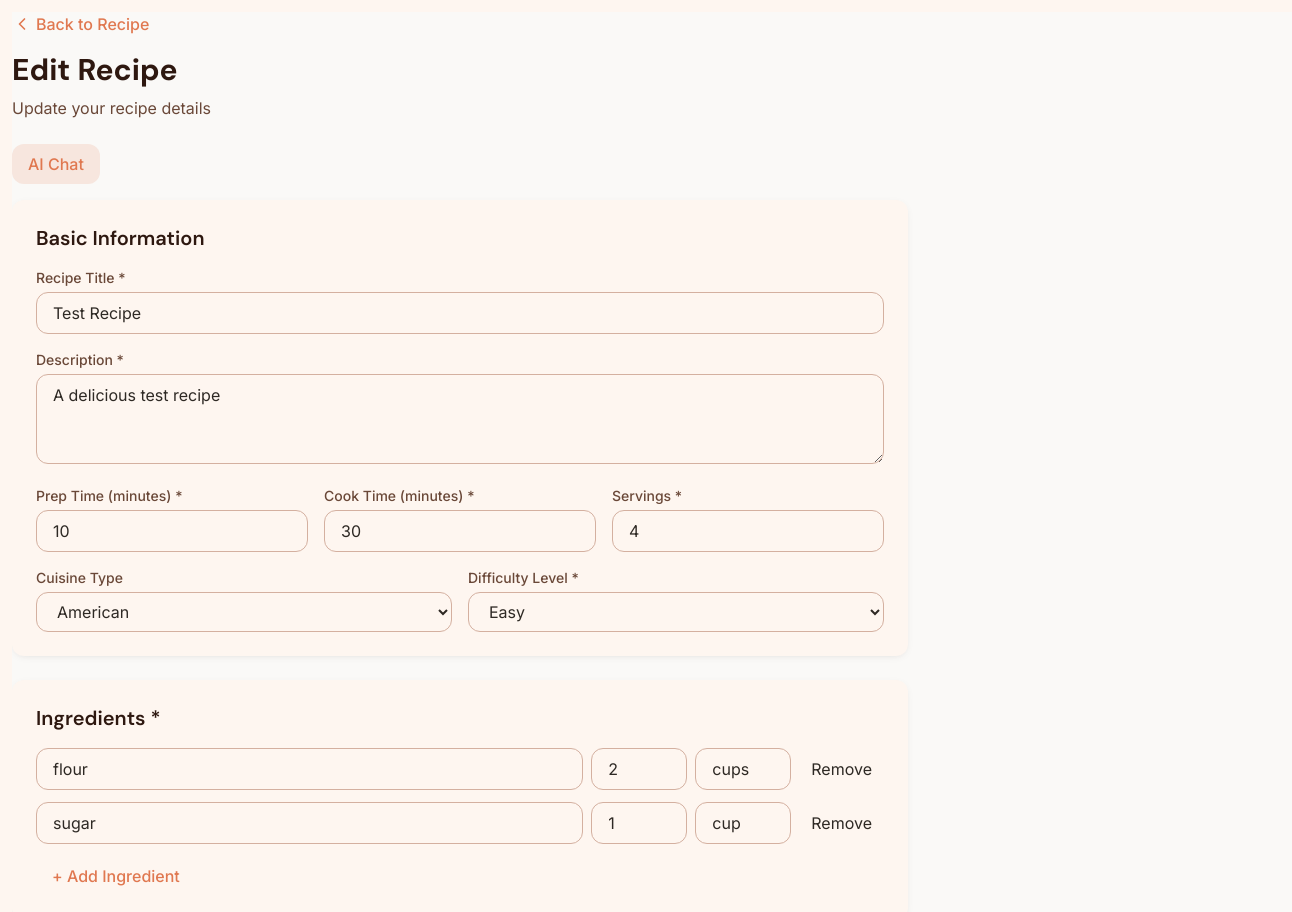
Test: EditRecipePage - Chat Integration › after Apply, next chat message includes the updated recipe state
The width and height of the screenshot is (1292, 912).
Check: the heading "Edit Recipe" is shown, box [12,50,178,89]
// Open chat panel
Click the button "AI Chat". click: {"x": 56, "y": 164}
box: [12,144,100,184]
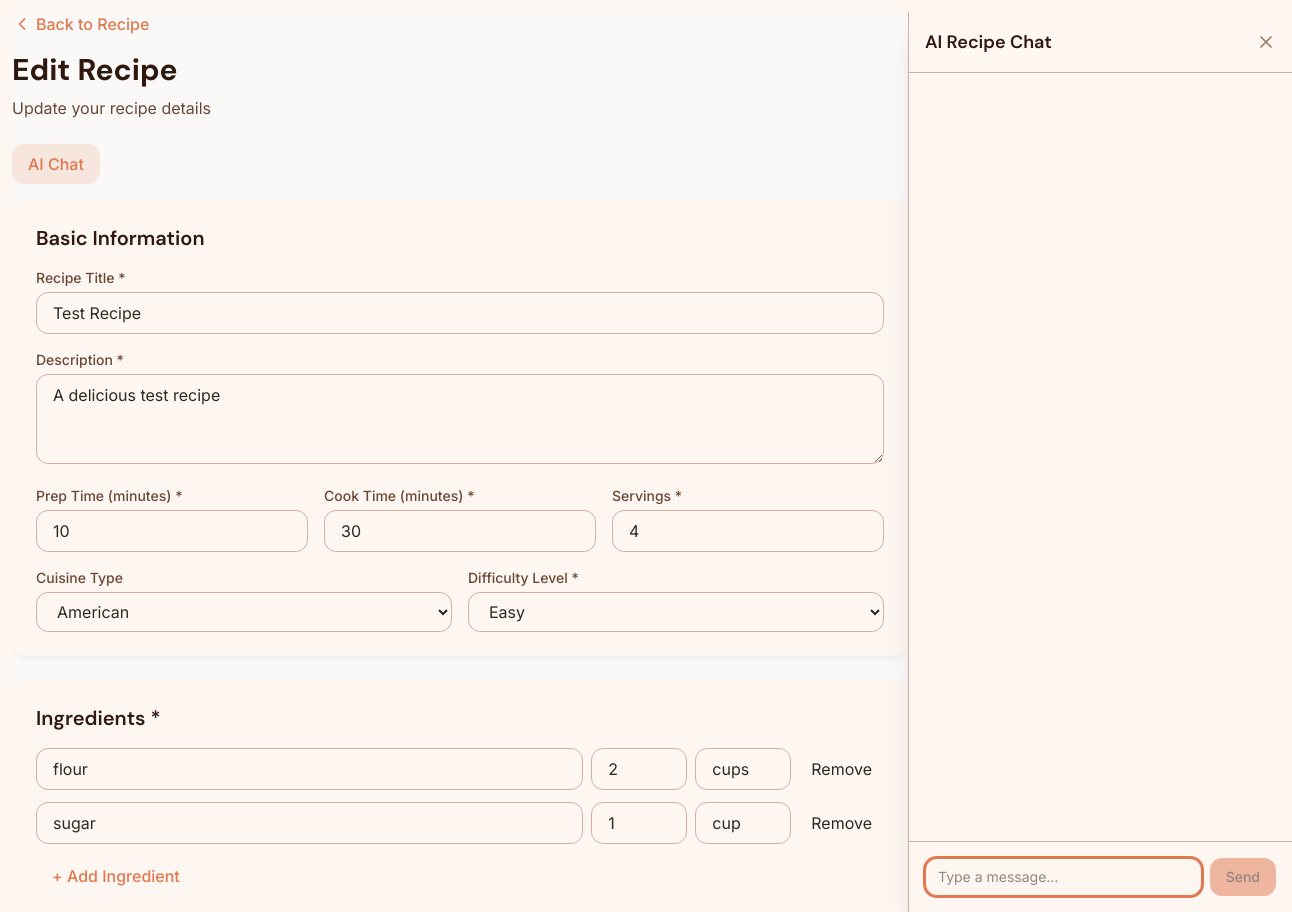
// Send a message to get a proposed recipe
Type "create a tofu recipe" into the field labelled "Type a message...". click: {"x": 1063, "y": 877}
box: [925,858,1202,896]
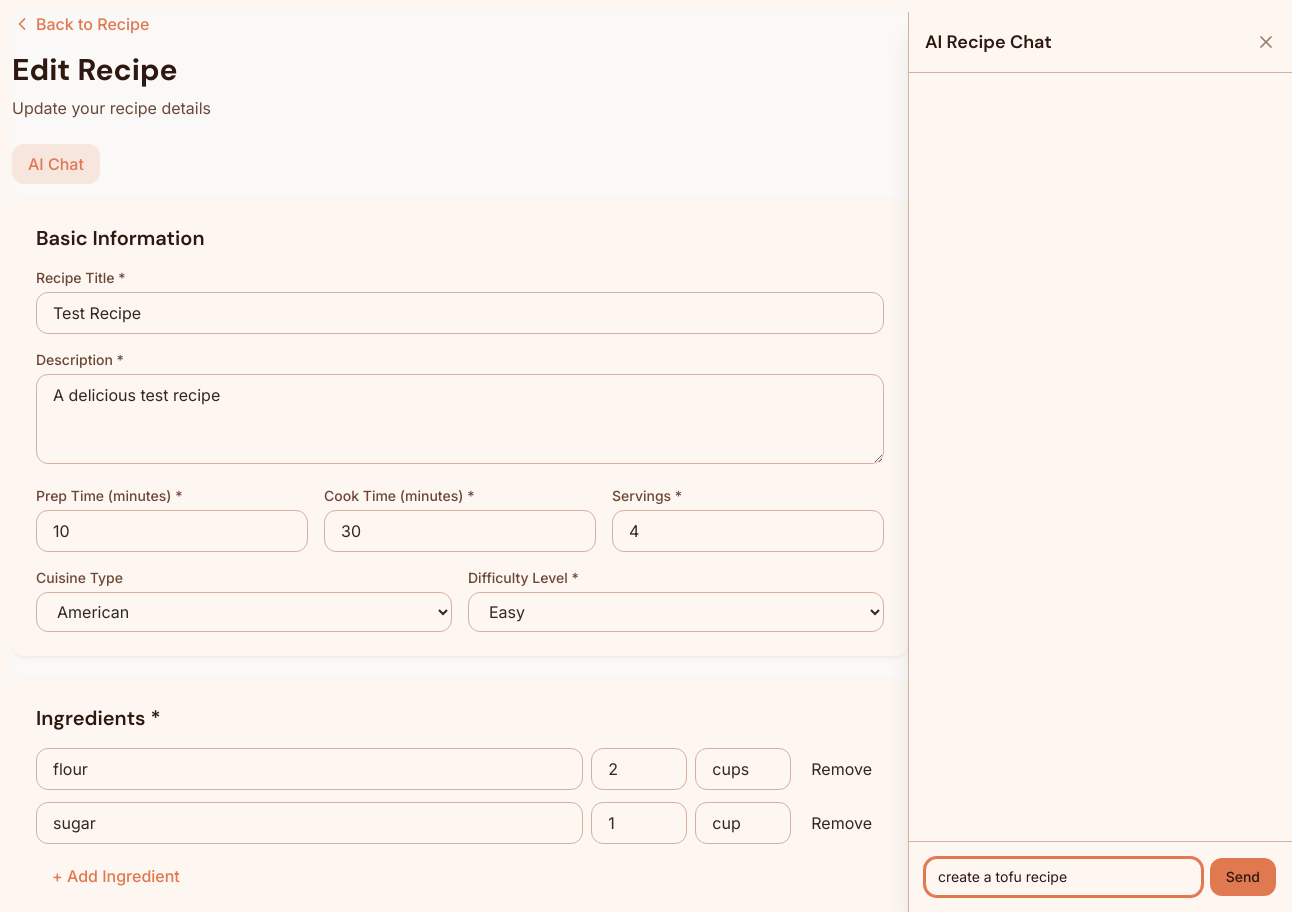
Click the button "Send". click: {"x": 1243, "y": 877}
box: [1210,858,1276,896]
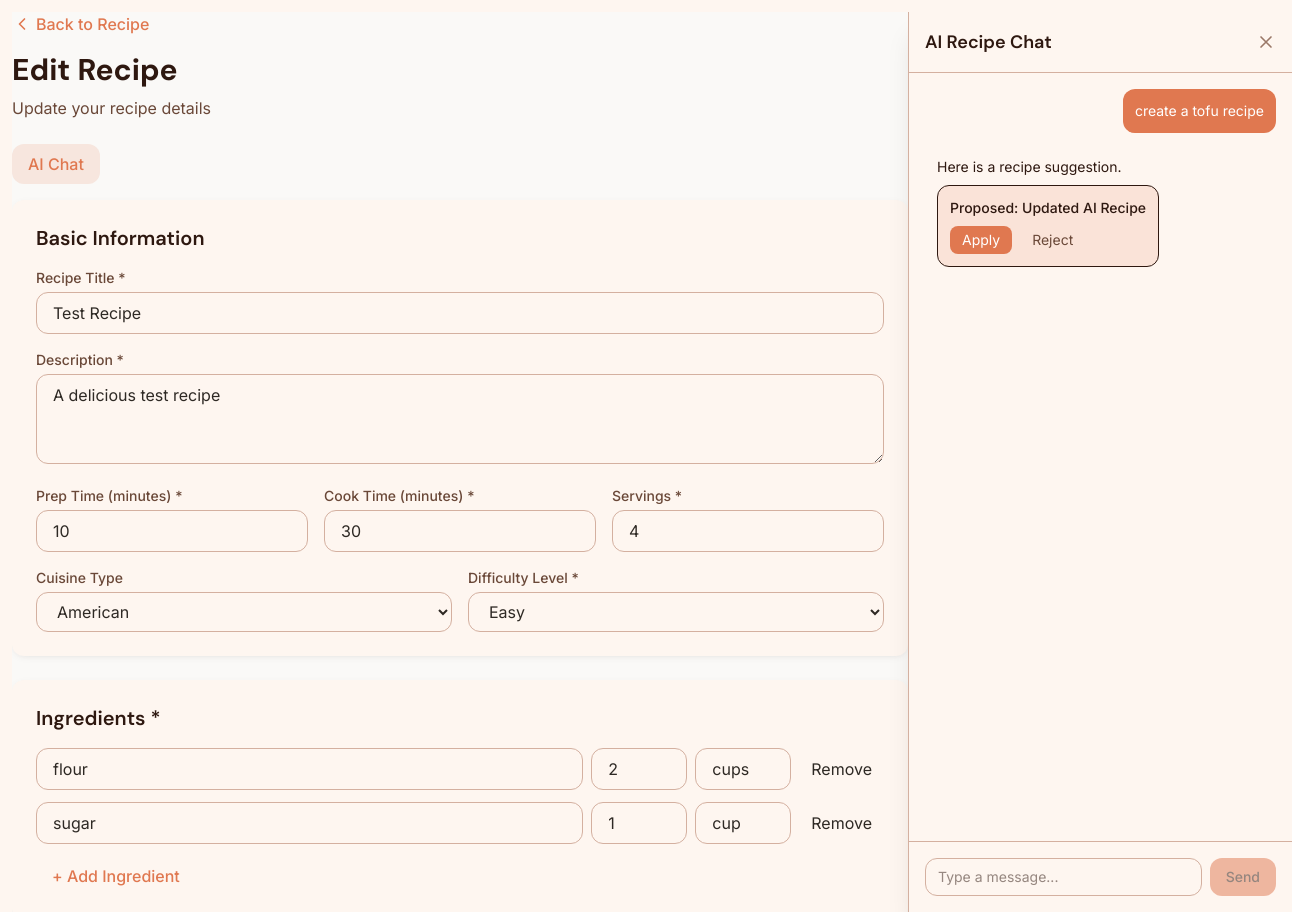
Check: the button "Apply" is shown
// Apply the proposal
Click the button "Apply". click: {"x": 981, "y": 240}
box: [950,226,1012,254]
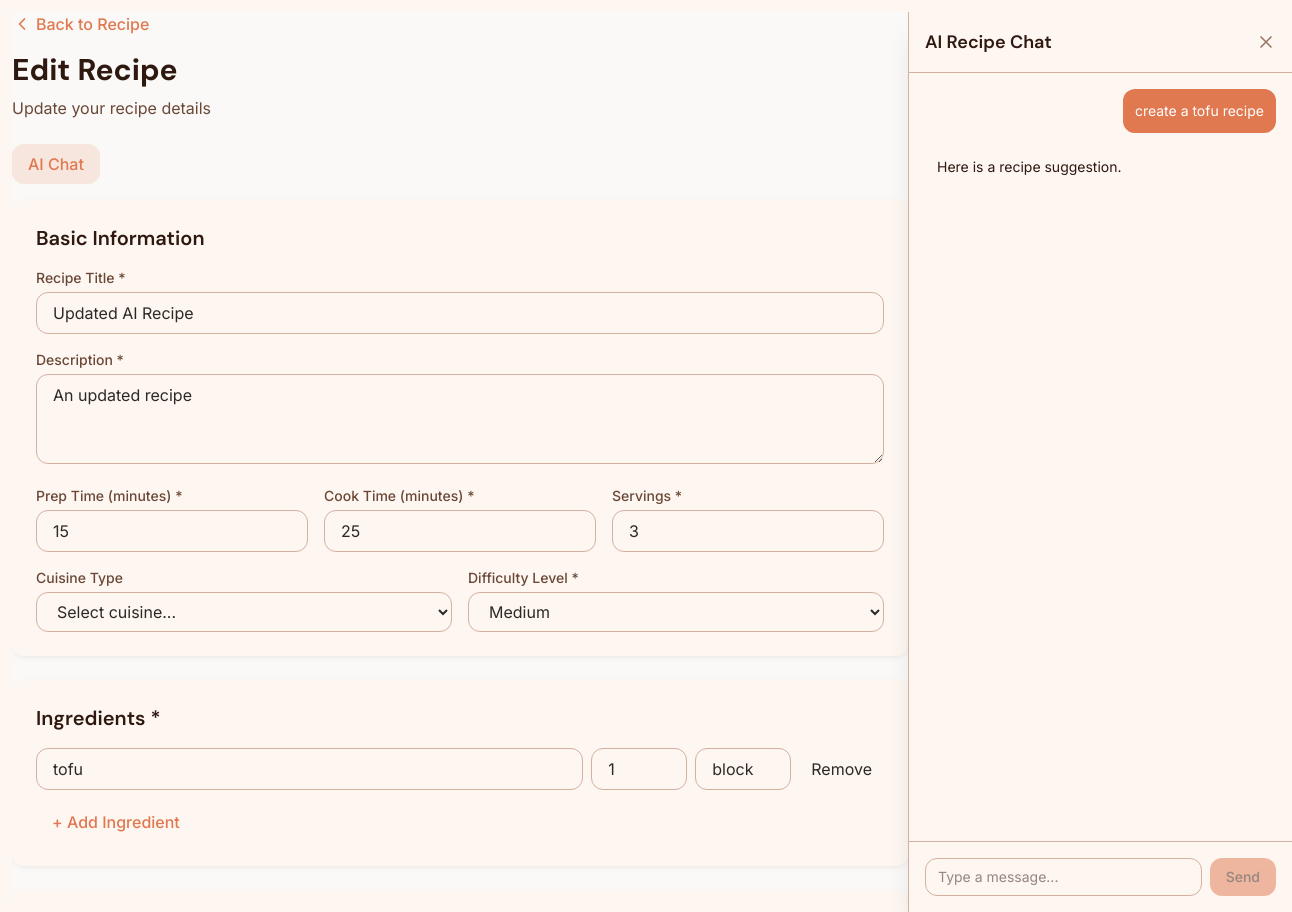
Check: the field labelled "Type a message..." is enabled
Type "what else can I do with this?" into the field labelled "Type a message...". click: {"x": 1063, "y": 877}
box: [925,858,1202,896]
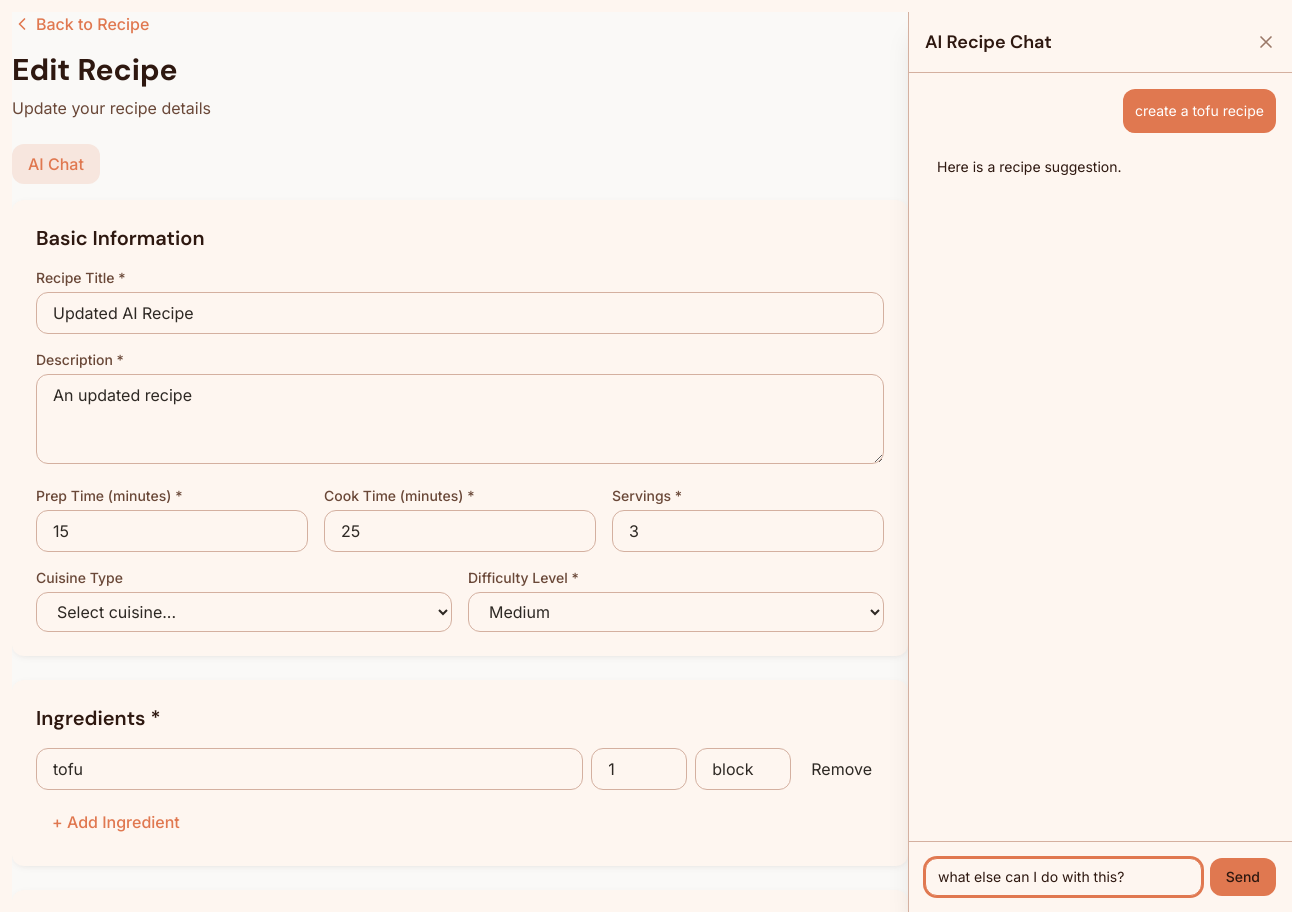
Click the button "Send". click: {"x": 1243, "y": 877}
box: [1210,858,1276,896]
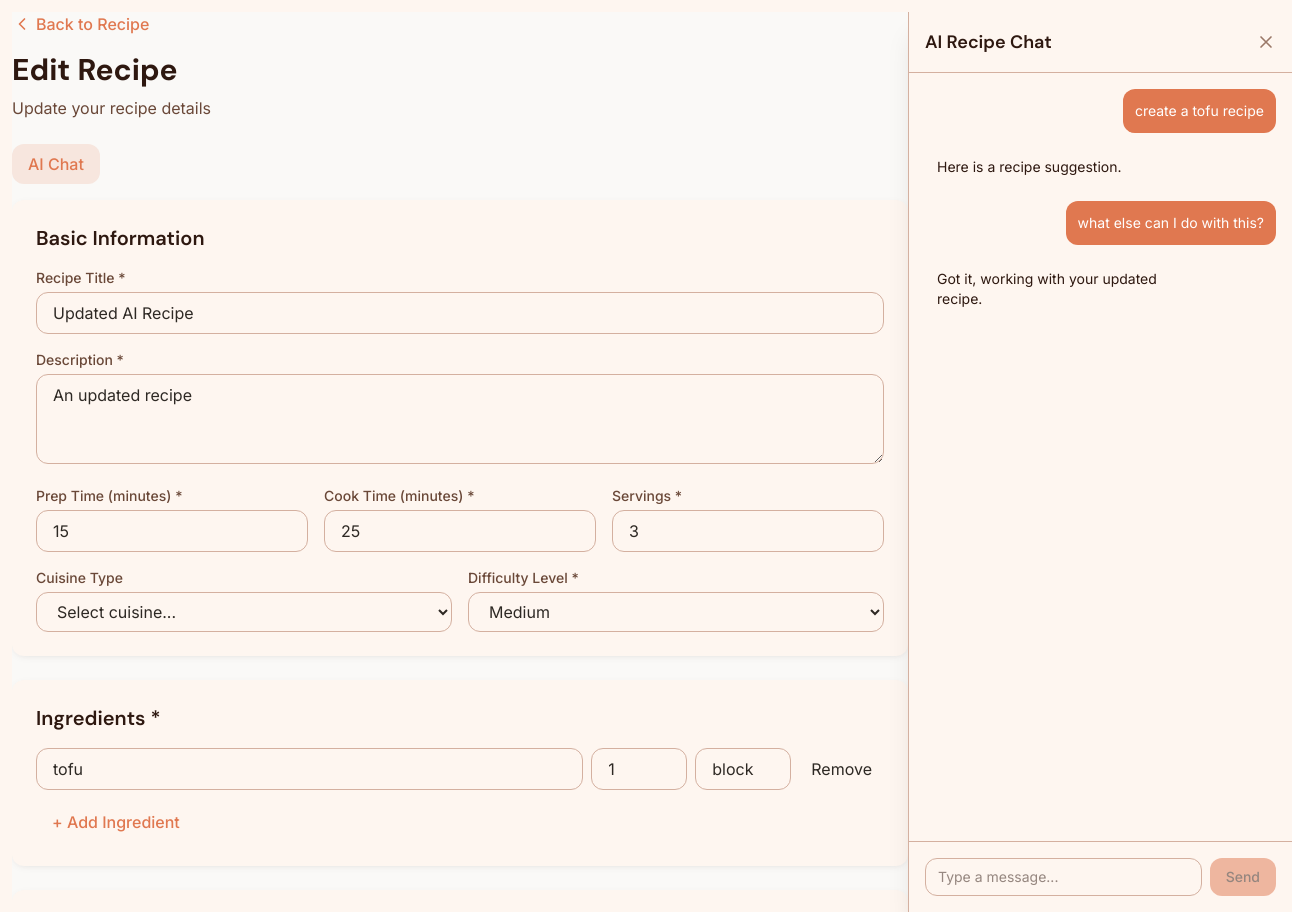
Check: the text "Got it, working with your updated recipe." is shown, box [937,269,1194,309]
